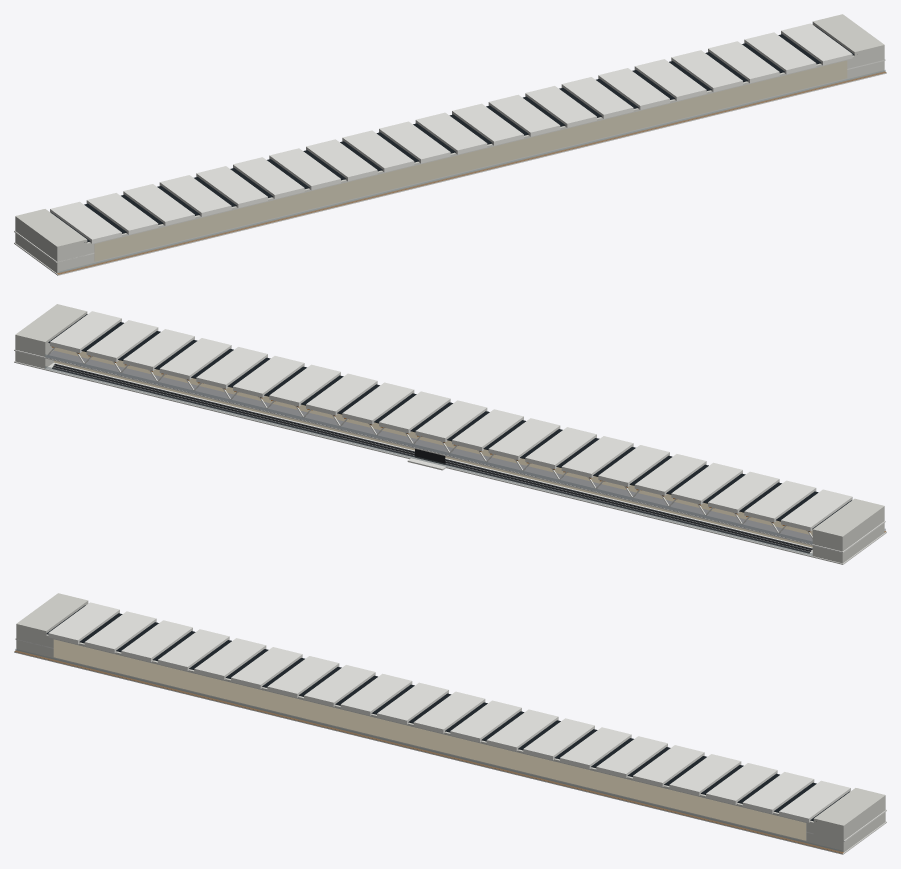
File: mtl_pit_upper.glb
The picture shows the model from 3 angles, top to bottom: view 1: azimuth 30°, elevation 25°; view 2: azimuth 150°, elevation 25°; view 3: azimuth 330°, elevation 25°; orthographic projection.
Visible parts, largest first — view 1: montreal-espace-paddock; view 2: montreal-espace-paddock; view 3: montreal-espace-paddock.
Part boxes in pixels (x1,y1,x2,y2): montreal-espace-paddock: (14, 14, 886, 275); montreal-espace-paddock: (14, 304, 886, 564); montreal-espace-paddock: (14, 593, 886, 854).
Bounding box in the file's own units: 331 × 10.6 × 32.6.
